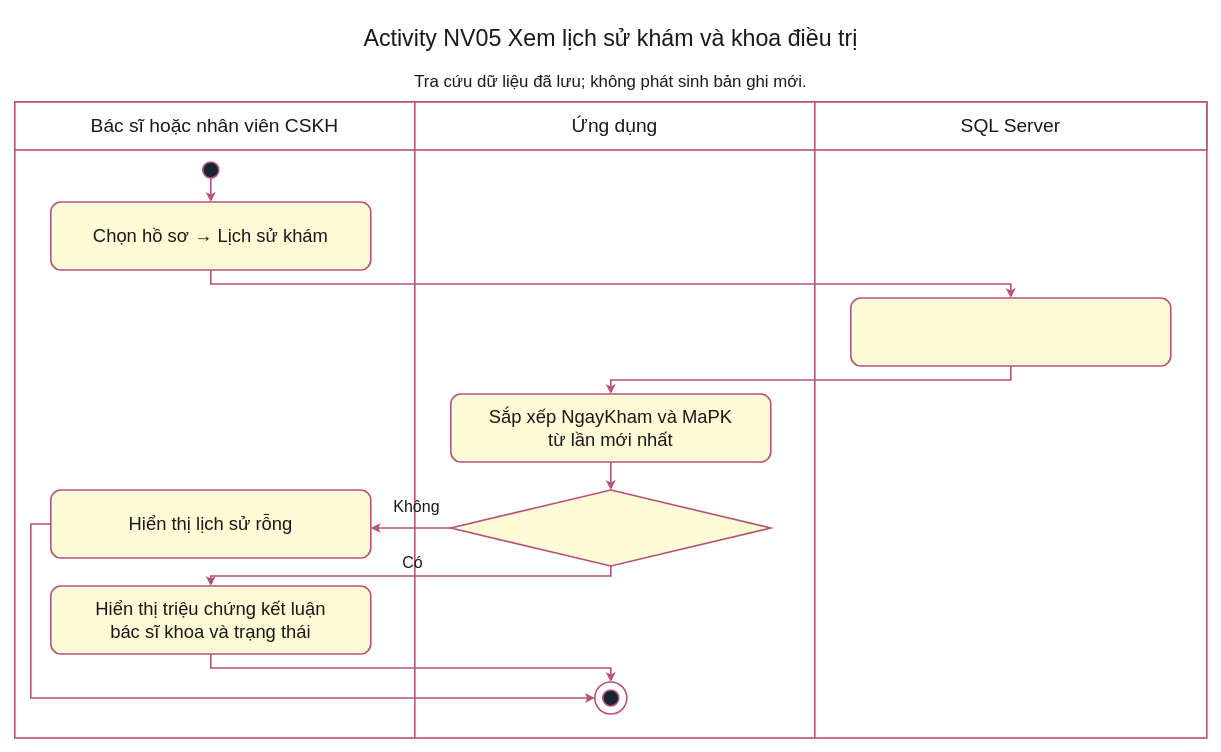
This 1221x752 diagram has some shape labels left out. The shapes that lost their labels are listed below. From the top down, each one's centre as x and y in pixels, then its label:
(x=1010, y=331): Đọc PhieuKham của hồ sơ JOIN BacSi và Khoa đã lưu
(x=610, y=527): Hồ sơ đã có lần khám?
